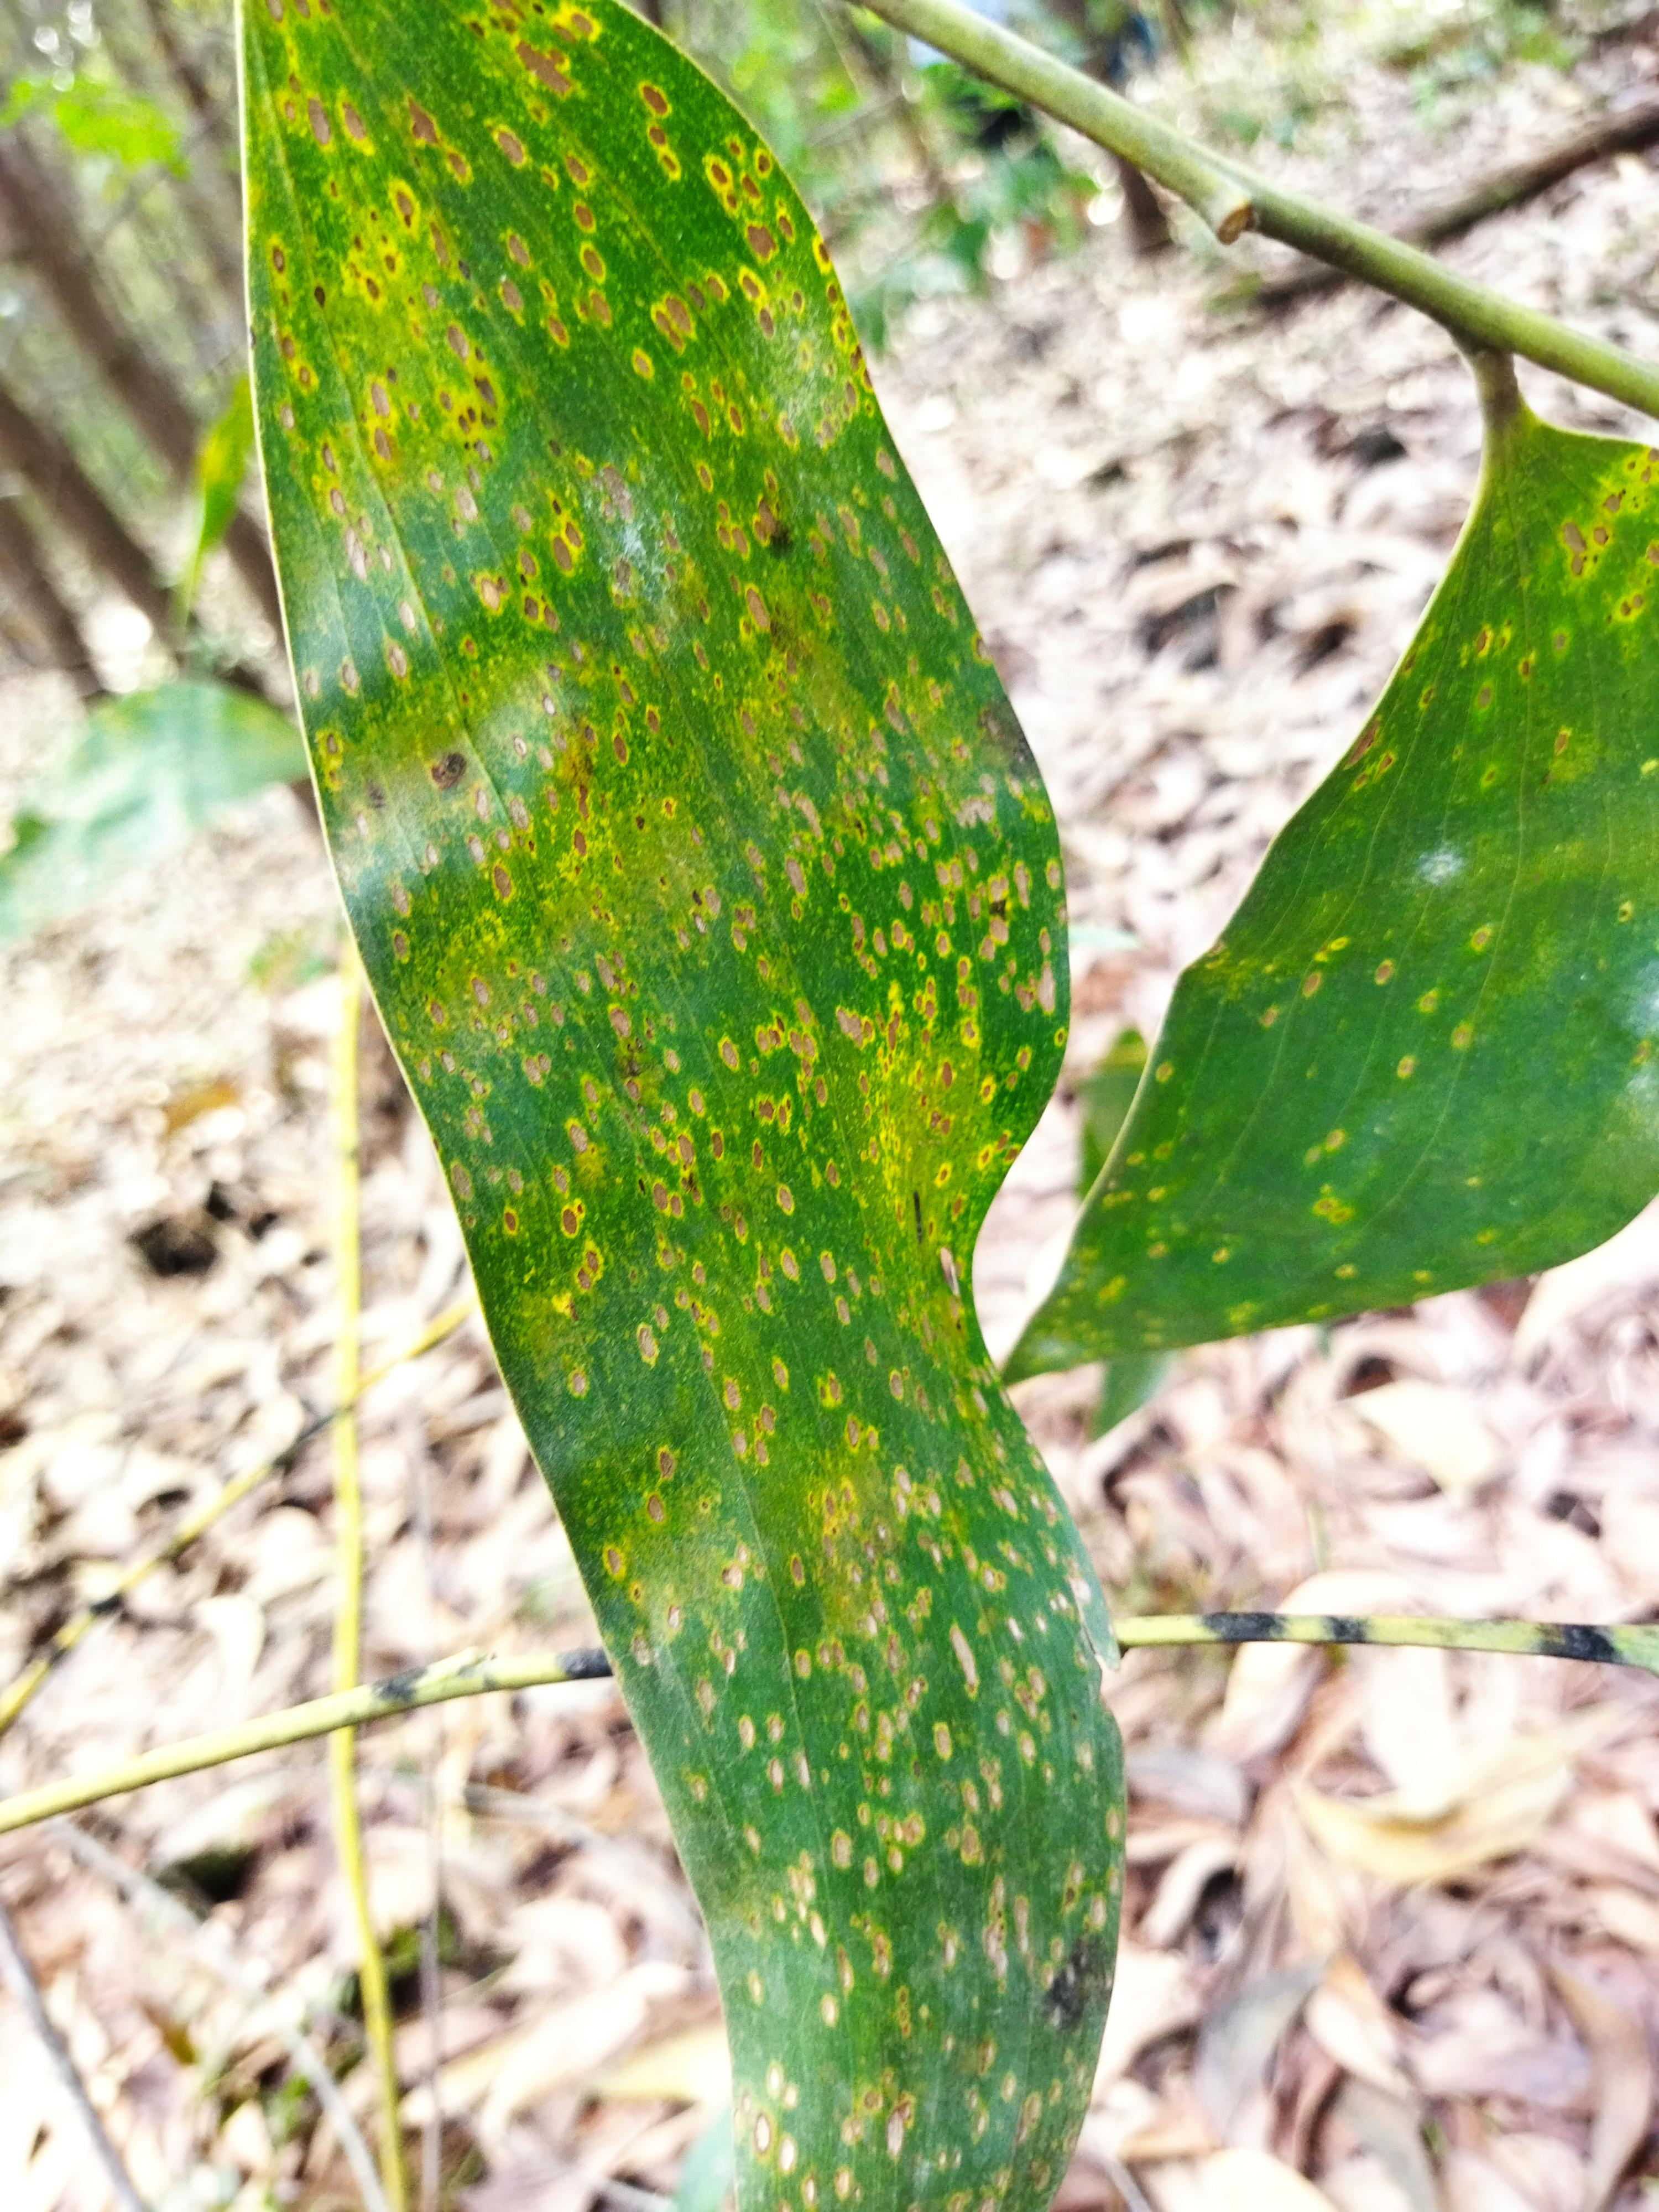Xanthomonas: (239, 23, 1121, 2212)
